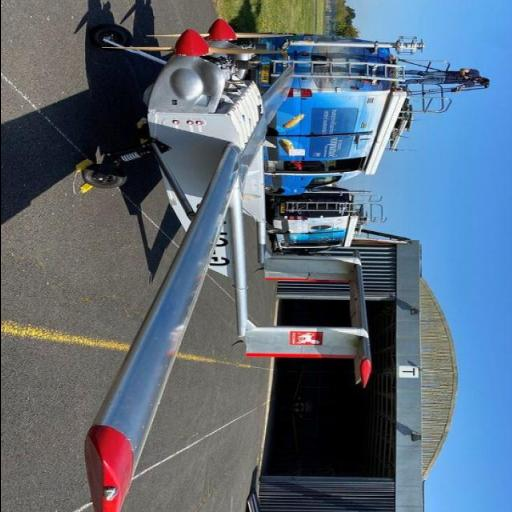uav: (76, 16, 368, 510)
